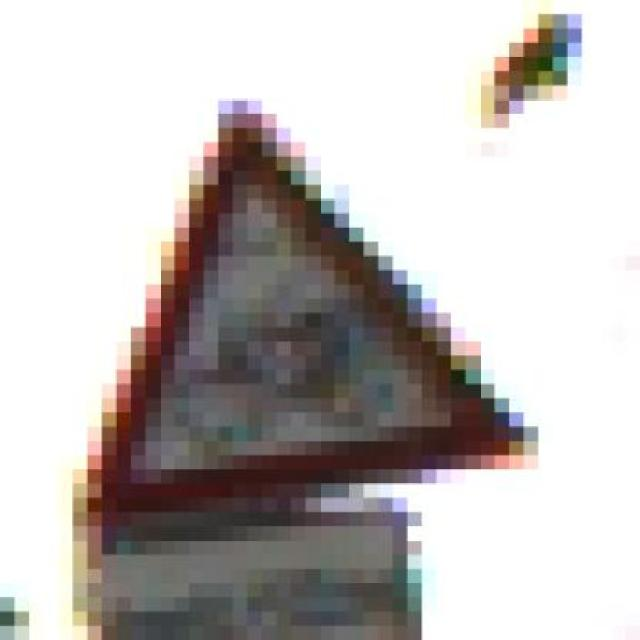CYCLE ROUTE AHEAD WARNING: (43, 99, 539, 527)
